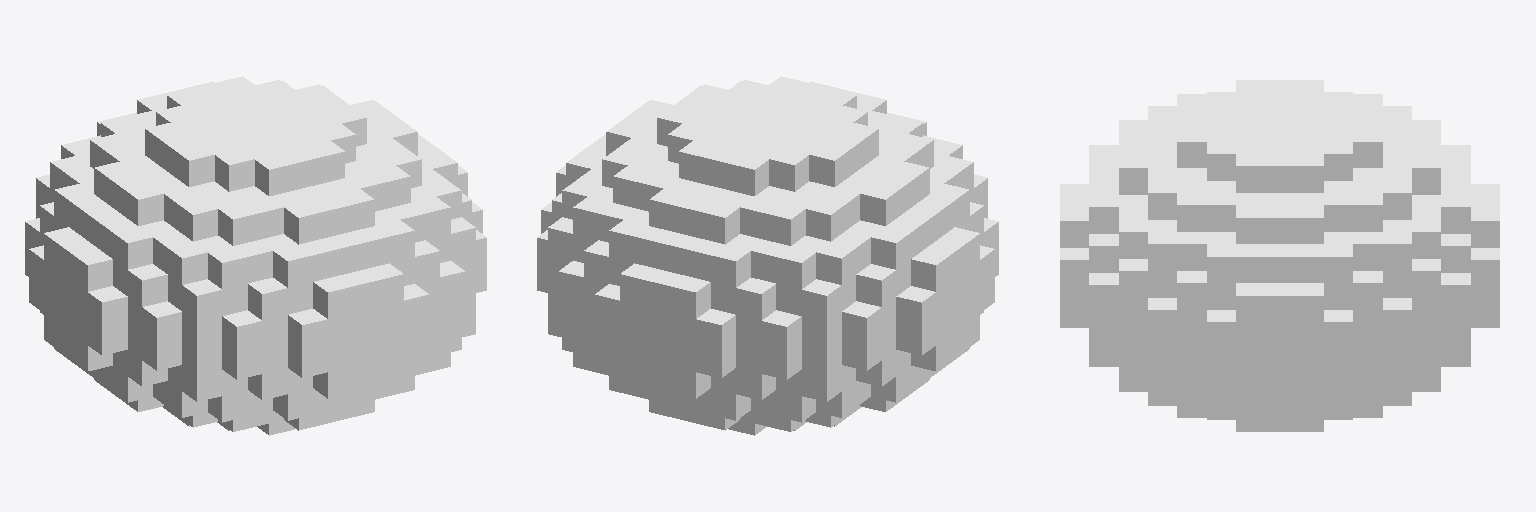
File: plateformepierre.obj
3 renders of one model, left to right at view 1: azimuth 30°, elevation 25°; view 2: azimuth 150°, elevation 25°; view 3: azimuth 270°, elevation 25°, orthographic.
Parts seen in each view (by area): view 1: object 1; view 2: object 1; view 3: object 1.
Part boxes in pixels (x1,y1,x2,y2): object 1: (25, 76, 486, 435); object 1: (537, 76, 998, 435); object 1: (1060, 80, 1499, 431).
Bounding box in the file's own units: 1.5 × 1 × 1.5.